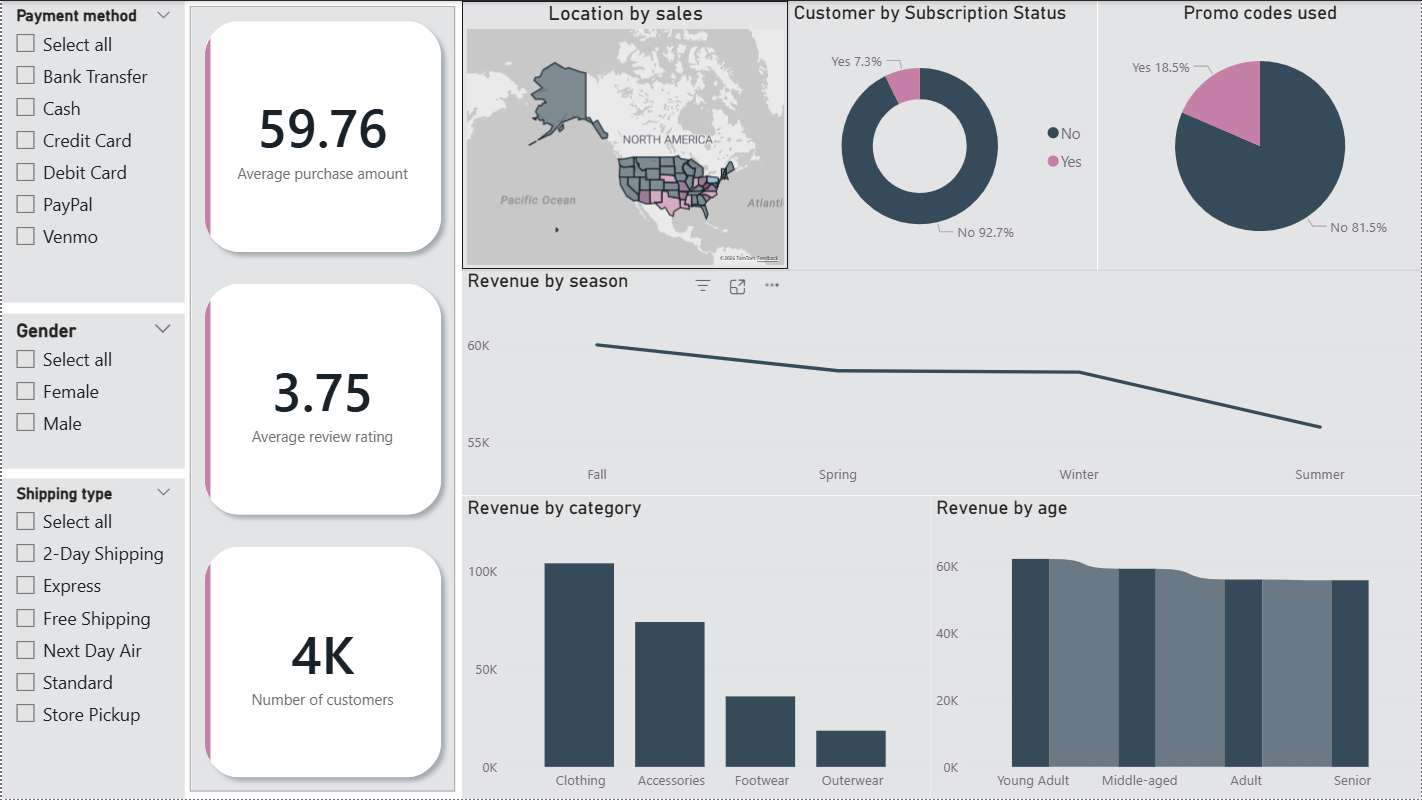

The page's visual inventory and layout, read from the dashboard file:
{"tool":"powerbi","page":{"name":"overview","canvas":[1280,720],"ordinal":1},"visuals":[{"type":"cardVisual","fields":{"Data":["customer_shopping_behavior.Average purchase amount","customer_shopping_behavior.Average review rating","customer_shopping_behavior.Number of customers"]},"box":[164.7,0,249.7,720.4],"z":0},{"type":"donutChart","title":"Customer by Subscription Status","fields":{"Y":["Sum(customer_shopping_behavior.customer_id)"],"Category":["customer_shopping_behavior.subscription_status"]},"box":[709.4,0,278.6,242.9],"z":1000},{"type":"columnChart","title":"Revenue by category","fields":{"Y":["Sum(customer_shopping_behavior.purchase_amount)"],"Category":["customer_shopping_behavior.category"]},"box":[414.4,446,422.6,274.4],"z":2000},{"type":"azureMap","title":"Location by sales","fields":{"Category":["customer_shopping_behavior.location"],"Series":["customer_shopping_behavior.purchase_amount"]},"box":[414.4,0,295,242.9],"z":3000},{"type":"slicer","fields":{"Values":["customer_shopping_behavior.gender"]},"box":[0,281.3,164.7,140],"z":4000},{"type":"ribbonChart","title":"Revenue by age","fields":{"Y":["Sum(customer_shopping_behavior.purchase_amount)"],"Category":["customer_shopping_behavior.age_labled"]},"box":[837.1,446,443.2,274.4],"z":5000},{"type":"lineChart","title":"Revenue by season","fields":{"Y":["Sum(customer_shopping_behavior.purchase_amount)"],"Category":["customer_shopping_behavior.season"]},"box":[414.4,242.9,865.9,203.1],"z":6000},{"type":"pieChart","title":"Promo codes used","fields":{"Y":["Sum(customer_shopping_behavior.customer_id)"],"Category":["customer_shopping_behavior.promo_code_used"]},"box":[988,0,292.3,242.9],"z":7000},{"type":"slicer","fields":{"Values":["customer_shopping_behavior.payment_method"]},"box":[0,0,164.7,271.7],"z":8000},{"type":"slicer","fields":{"Values":["customer_shopping_behavior.shipping_type"]},"box":[0,430.9,164.7,289.5],"z":9000}]}

Visuals, with their boxes in screenshot pixels (x1, y1, x2, y2), scaled from the page's 1280x720 canvas onto the 1422x800 screenshot:
cardVisual - customer_shopping_behavior.Average purchase amount x customer_shopping_behavior.Average review rating: 183:0:460:799
"Customer by Subscription Status" donutChart: 788:0:1098:270
"Revenue by category" columnChart: 460:496:930:799
"Location by sales" azureMap: 460:0:788:270
slicer - customer_shopping_behavior.gender: 0:313:183:468
"Revenue by age" ribbonChart: 930:496:1421:799
"Revenue by season" lineChart: 460:270:1421:496
"Promo codes used" pieChart: 1098:0:1421:270
slicer - customer_shopping_behavior.payment_method: 0:0:183:302
slicer - customer_shopping_behavior.shipping_type: 0:479:183:799
